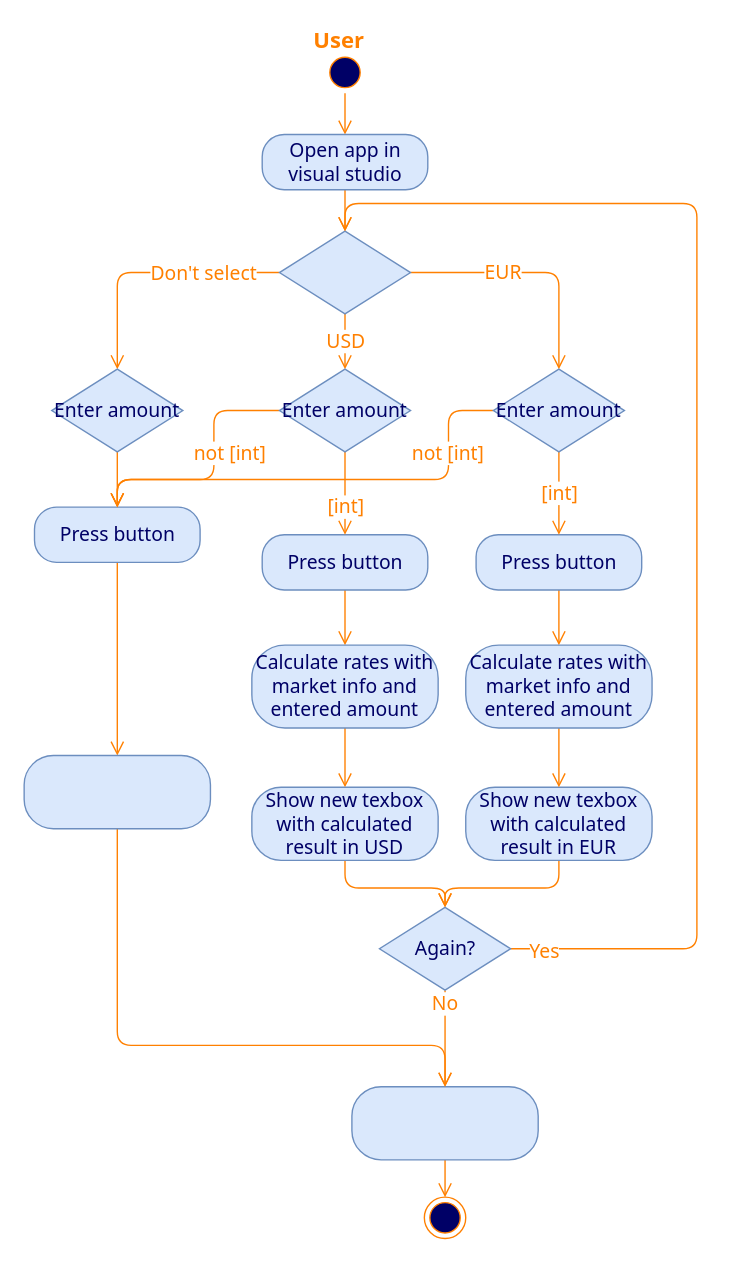
This 736x1263 diagram has some shape labels left out. The box of each missing label's shape, as (x1, y1, x2, y2) in pixels:
Close app in visual studio: (351, 1085, 538, 1160)
Error, crash app: (23, 754, 210, 829)
Select currency: (278, 230, 411, 314)
